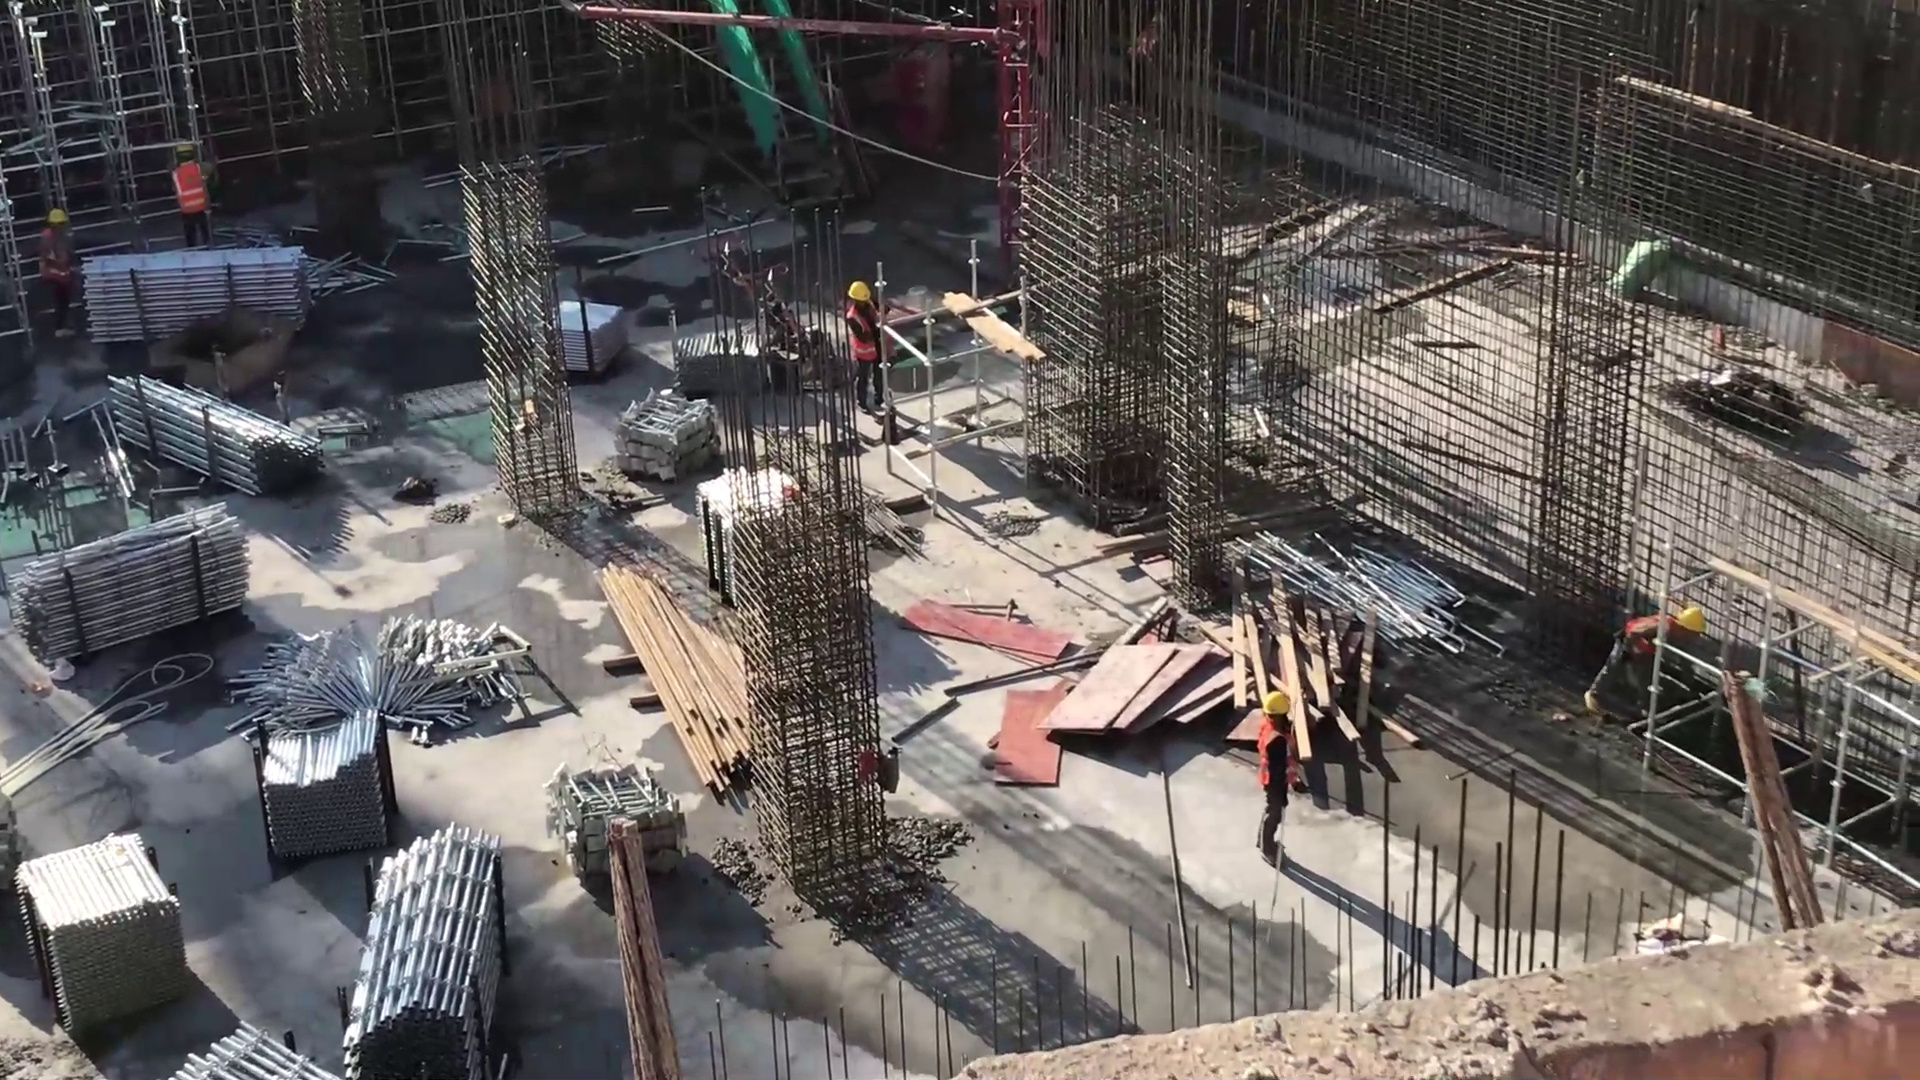board: (1070, 630, 1220, 756)
helmet: (1679, 607, 1707, 631), (1263, 691, 1290, 715), (850, 283, 871, 298), (49, 211, 67, 222)
person: (1589, 588, 1702, 722), (1248, 685, 1301, 862), (842, 279, 889, 412), (35, 204, 81, 327), (165, 137, 213, 247)
scaffold: (343, 854, 505, 1080), (20, 503, 262, 637), (24, 833, 196, 1014), (1278, 522, 1467, 657), (86, 242, 316, 347), (120, 377, 311, 488), (265, 701, 389, 850), (189, 1020, 327, 1080), (678, 331, 768, 391), (562, 297, 627, 378), (702, 481, 738, 614)
vest: (847, 308, 883, 363), (171, 165, 208, 219)
wood: (605, 558, 754, 779), (1236, 588, 1385, 734)
